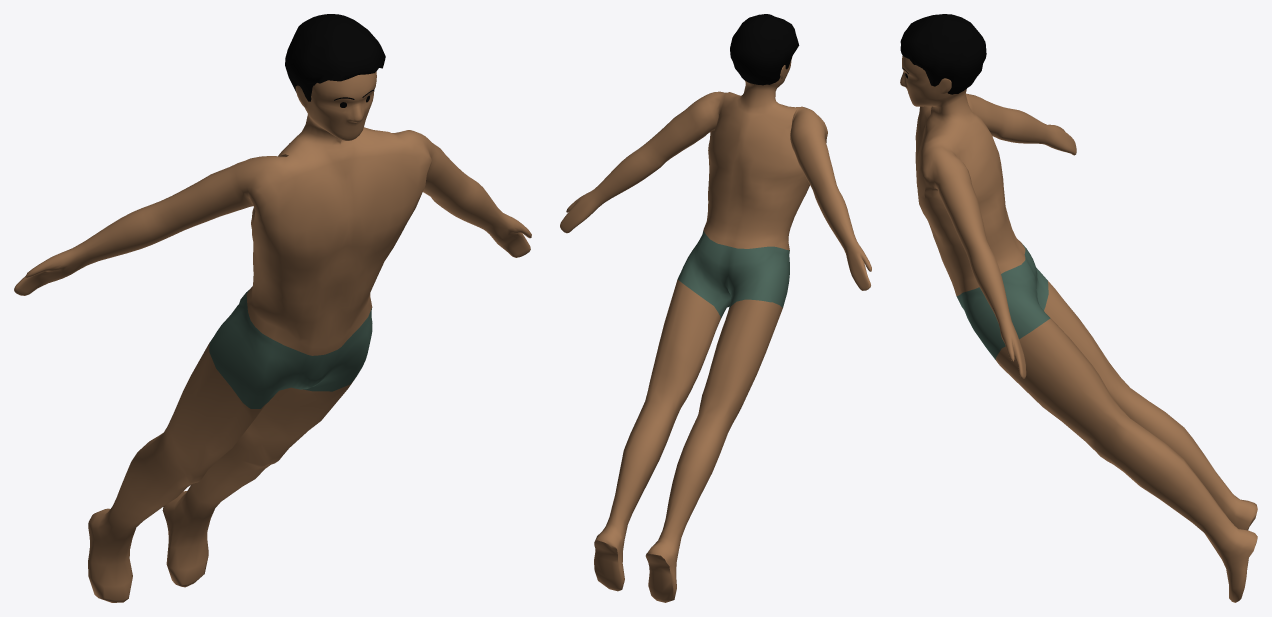
Rendered from Male-Dive.glb.
The picture shows the model from 3 angles, left to right: view 1: azimuth 30°, elevation 25°; view 2: azimuth 150°, elevation 25°; view 3: azimuth 270°, elevation 25°; orthographic projection. The views are drawn at different scales.
Parts seen in each view (by area): view 1: Male-Dive; view 2: Male-Dive; view 3: Male-Dive.
Boxes of the visible parts, x1=… form: Male-Dive: x1=14, y1=14, x2=531, y2=602; Male-Dive: x1=560, y1=14, x2=871, y2=602; Male-Dive: x1=900, y1=14, x2=1257, y2=602.
Bounding box in the file's own units: 1.12 × 1.56 × 0.8879.
